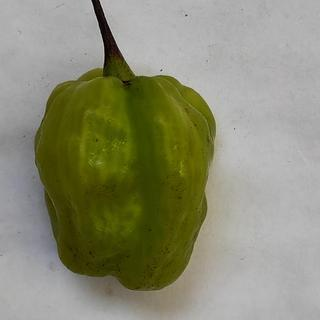Grade-A: (29, 61, 220, 292)
